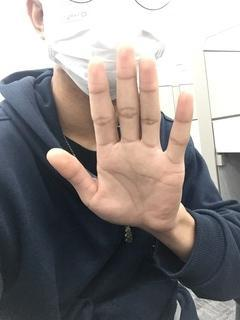hand: (46, 43, 193, 237)
